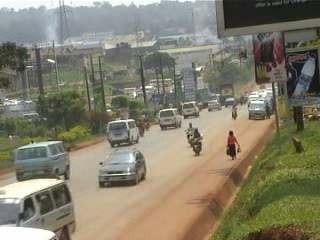Car: (91, 145, 148, 185), (204, 99, 222, 113), (221, 96, 235, 106)
Motorcycle: (190, 130, 204, 158), (183, 122, 196, 146), (140, 113, 151, 134), (228, 102, 239, 120)
